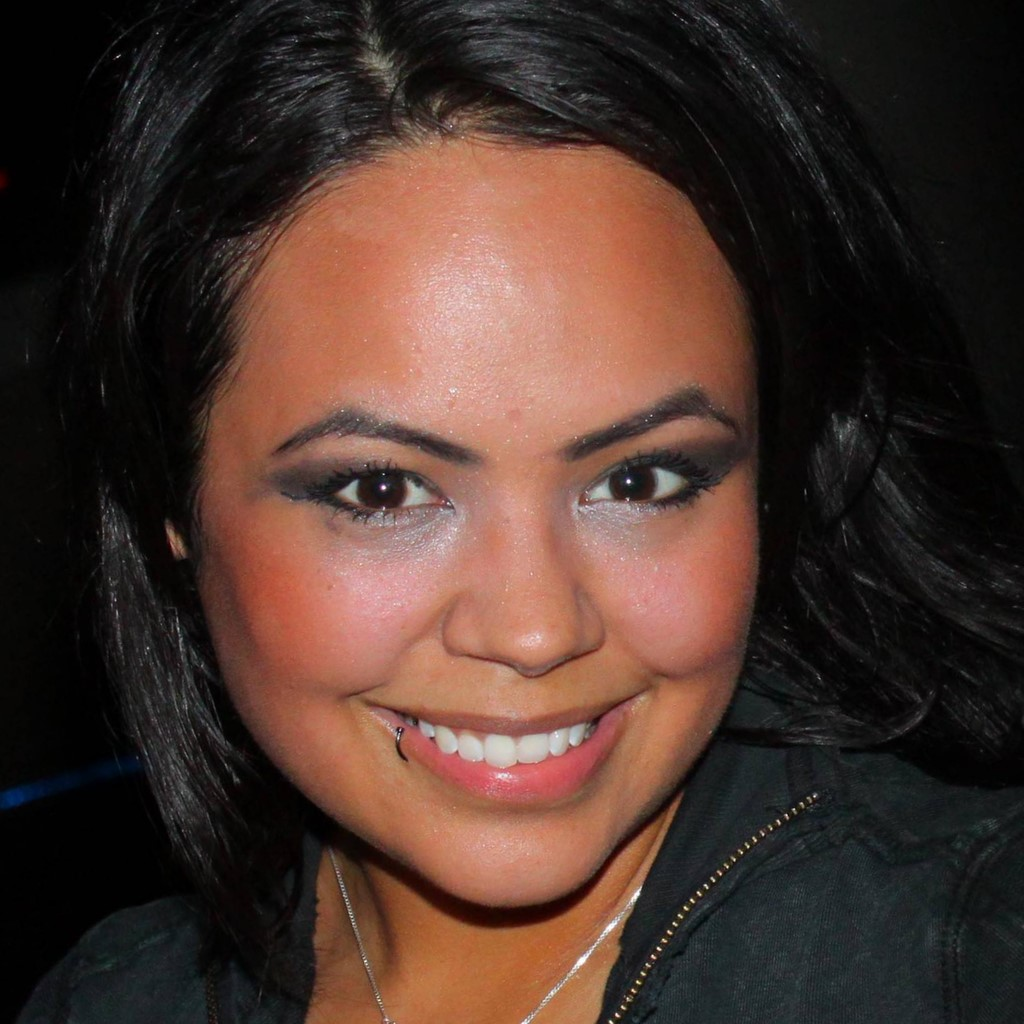sin_mascara: (150, 78, 766, 922)
